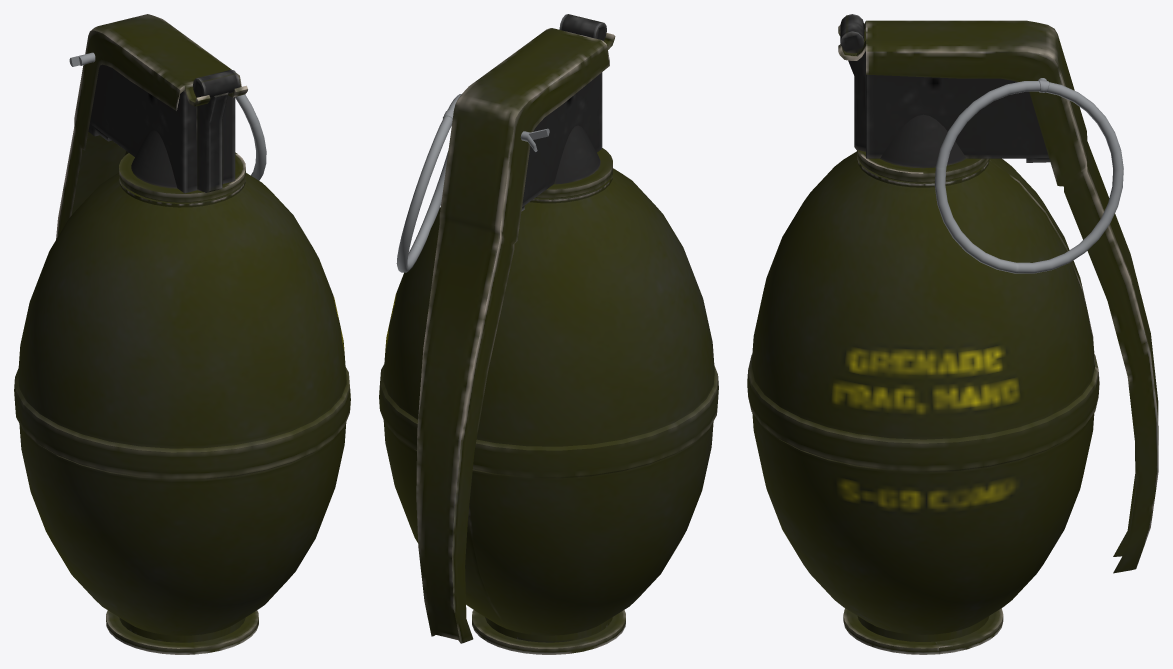
Rendered from g_frag.glb.
3 renders of one model, left to right at view 1: azimuth 30°, elevation 25°; view 2: azimuth 150°, elevation 25°; view 3: azimuth 270°, elevation 25°, orthographic. The views are drawn at different scales.
Visible parts, largest first — view 1: Grenade, Pin; view 2: Grenade, Pin; view 3: Grenade, Pin.
Part boxes in pixels (x1,y1,x2,y2): Grenade: (14,14,350,654); Pin: (69,52,266,180); Grenade: (379,14,718,654); Pin: (396,94,549,272); Grenade: (747,14,1158,654); Pin: (934,78,1123,273).
Bounding box in the file's own units: 0.0544 × 0.1018 × 0.0635.
Materials: 1 (1 with a texture image).
